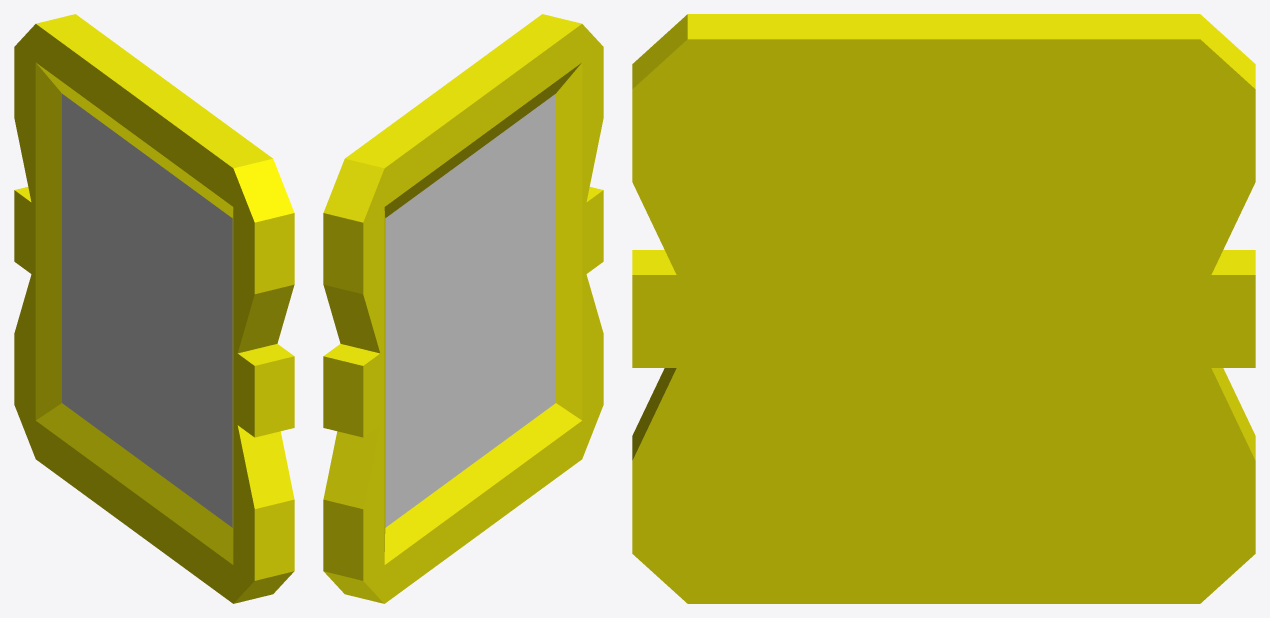
Rendered from FrameY.fbx.
The picture shows the model from 3 angles, left to right: view 1: azimuth 30°, elevation 25°; view 2: azimuth 150°, elevation 25°; view 3: azimuth 270°, elevation 25°; orthographic projection. The views are drawn at different scales.
Parts seen in each view (by area): view 1: Plane; view 2: Plane; view 3: Plane.
Part boxes in pixels (x1,y1,x2,y2): Plane: [14, 14, 294, 603]; Plane: [323, 14, 603, 603]; Plane: [632, 14, 1255, 603].
Bounding box in the file's own units: 53.84 × 563 × 563.
